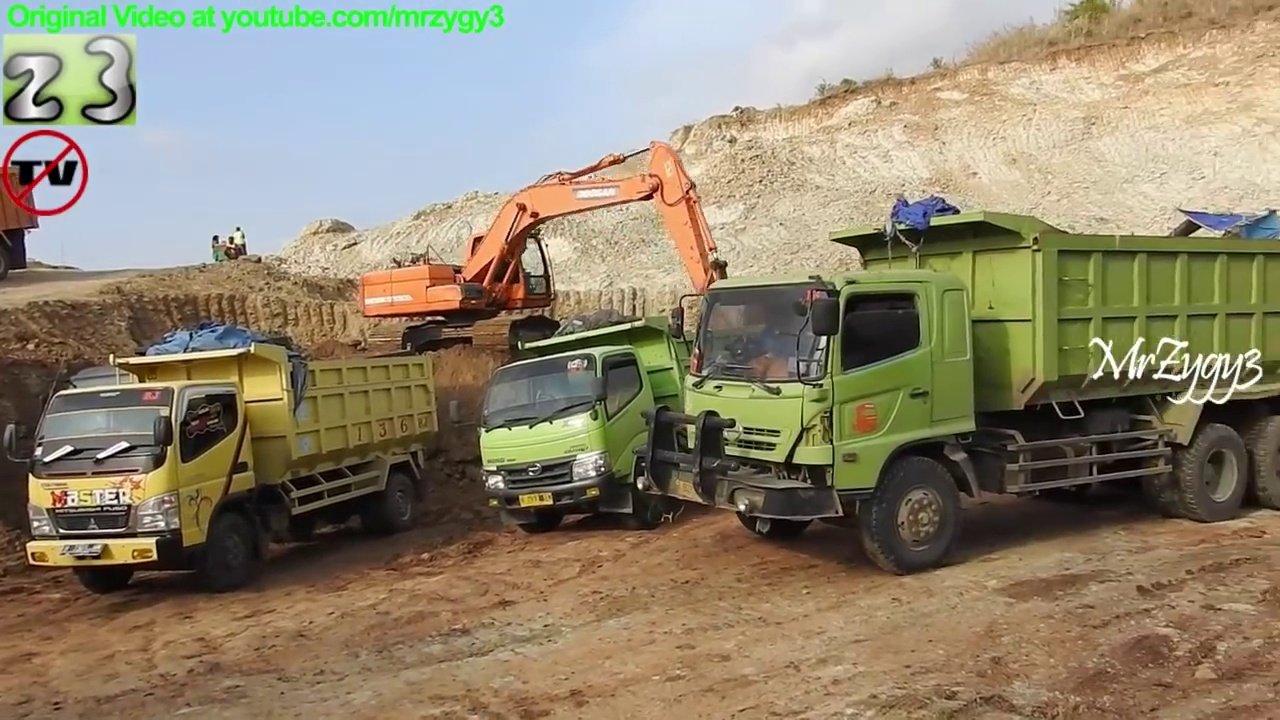excavator: (353, 138, 737, 364)
person: (235, 227, 248, 258), (211, 232, 223, 261), (225, 236, 238, 254)
truck: (630, 210, 1272, 575), (1, 342, 442, 584), (481, 316, 701, 531)
